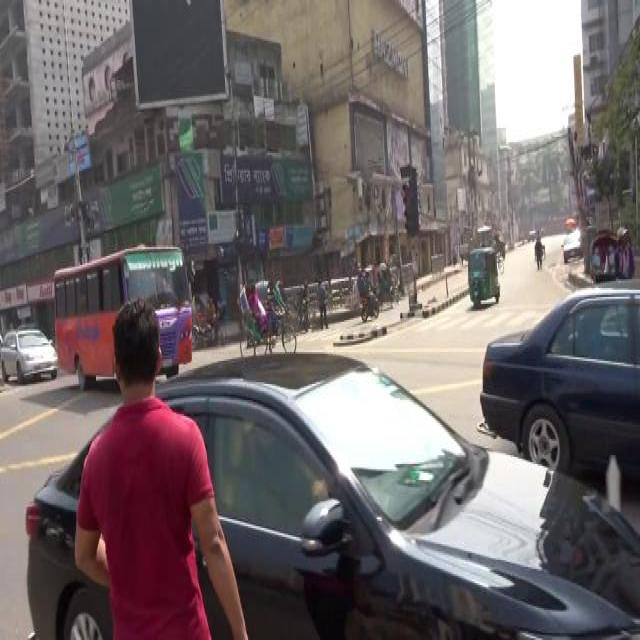bus: (51, 245, 190, 382)
car: (25, 350, 640, 638), (479, 278, 639, 486), (0, 325, 56, 375)
motorbike: (359, 291, 379, 321)
rickshaw: (236, 278, 296, 351), (588, 228, 632, 276), (274, 278, 312, 330), (190, 294, 220, 346), (376, 260, 398, 308)
three wheelers -CNG-: (466, 245, 499, 306)
